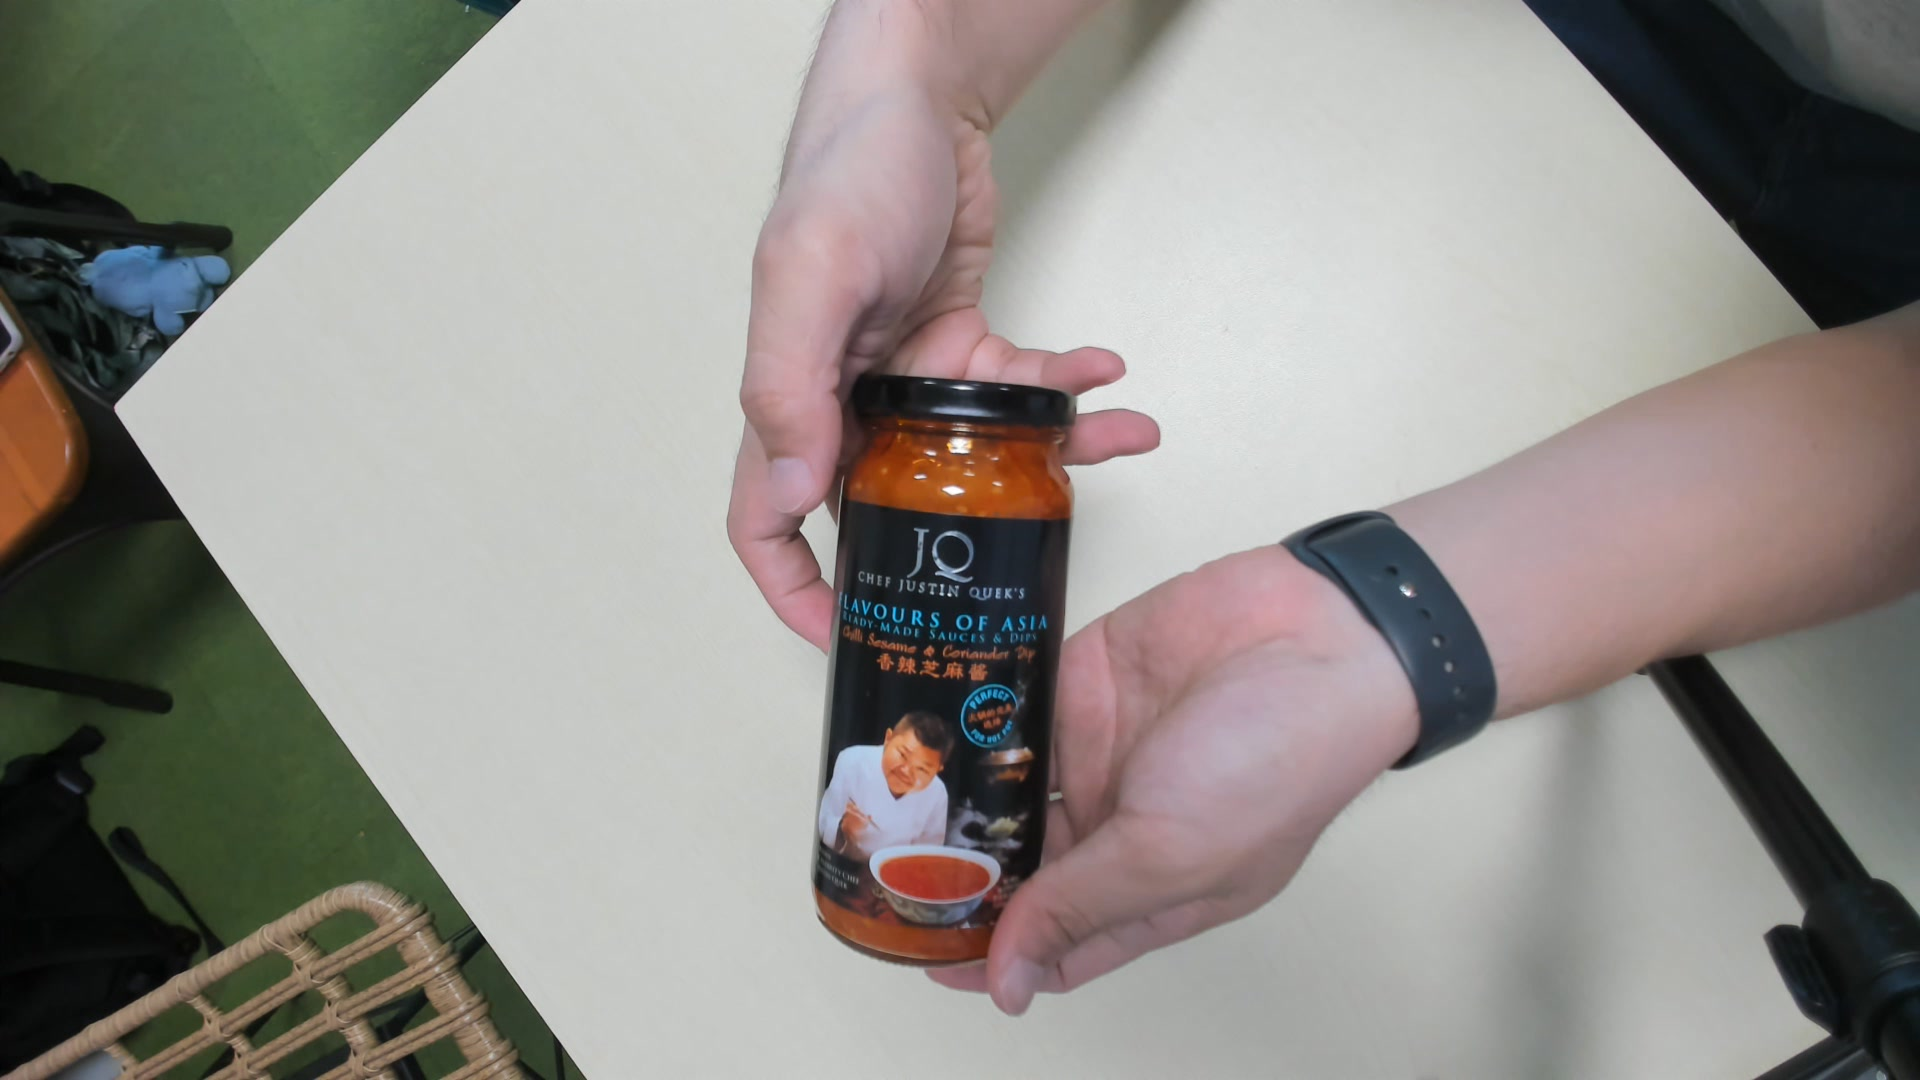OtherSauceDressing_300-399g_NonHalal_NonHealthy: (804, 365, 1073, 982)
